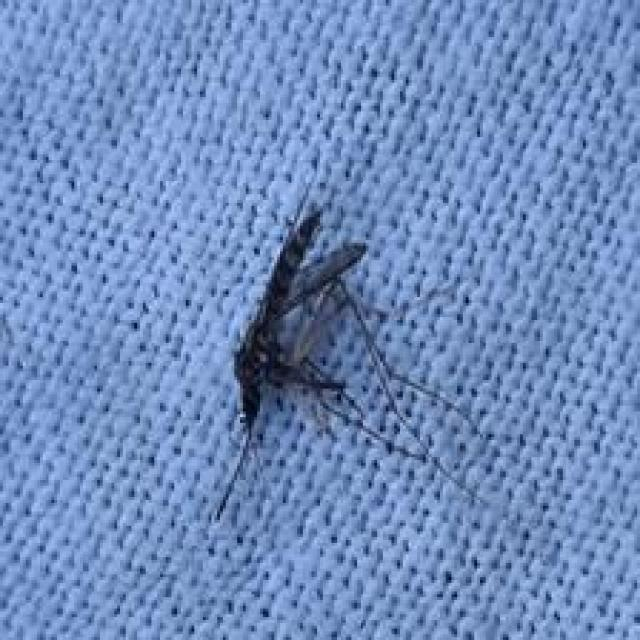Aedes albopictus: (206, 186, 497, 531)
